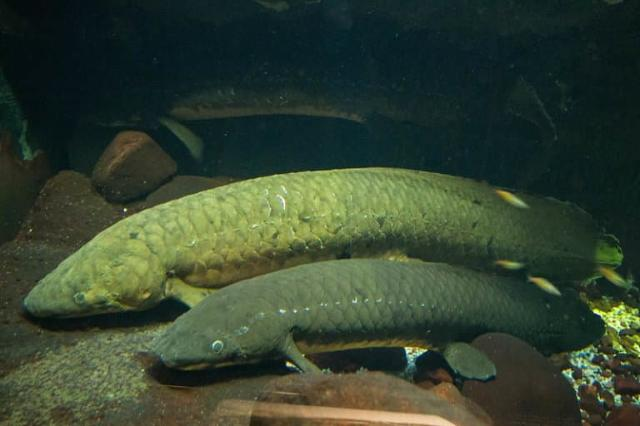Sirip Ekor: (554, 190, 640, 300), (532, 274, 616, 382)
Sirip Perut: (434, 325, 508, 401)
